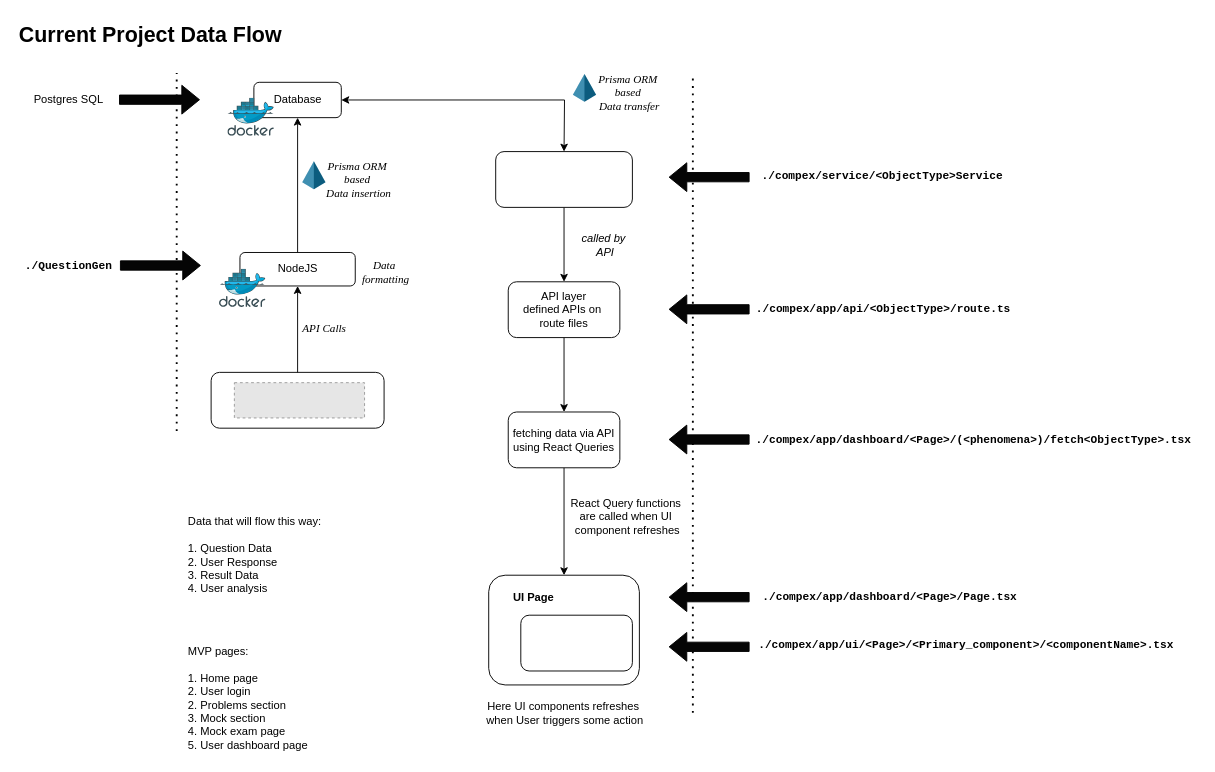
This 1215x772 diagram has some shape labels left out. Grey dashed boxes stand in for pictures. The centre of each missing label's shape, as x and y in pixels:
Backend (NextJS) <ObjectType>Service.ts: pixel 563 179
UI components: pixel 576 642
